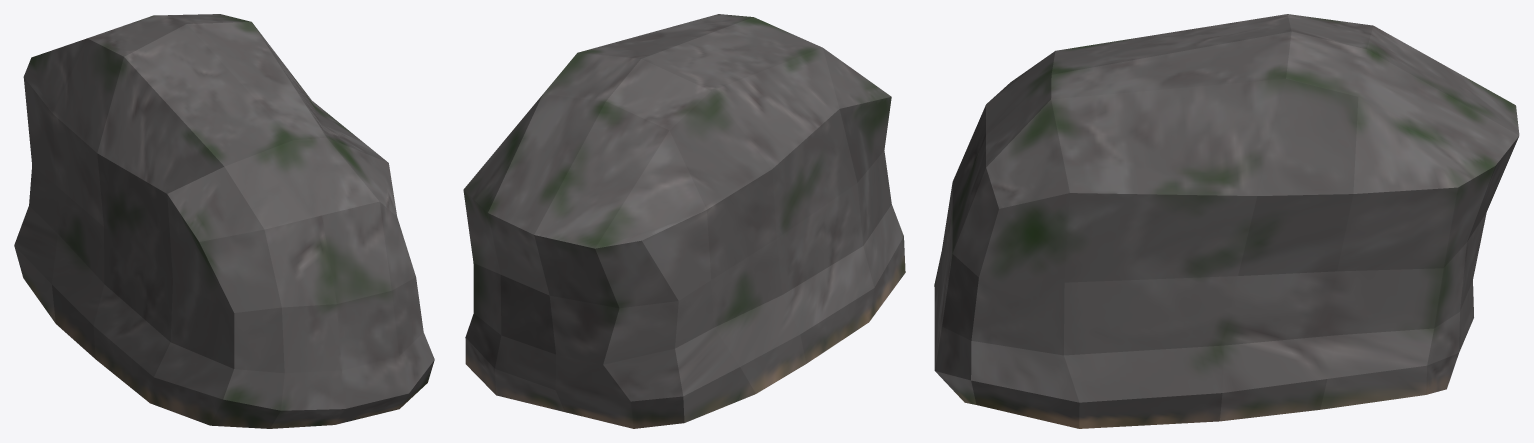
The model's file is MKU_rock_large_fin.fbx.
3 views of the same model, side by side, from view 1: azimuth 30°, elevation 25°; view 2: azimuth 150°, elevation 25°; view 3: azimuth 270°, elevation 25° (orthographic). The views are drawn at different scales.
Visible parts, largest first — view 1: Cube; view 2: Cube; view 3: Cube.
Part boxes in pixels (<box>): Cube: <box>14,14,434,428</box>; Cube: <box>463,14,905,428</box>; Cube: <box>934,14,1519,428</box>.
Bounding box in the file's own units: 534 × 606 × 946.
